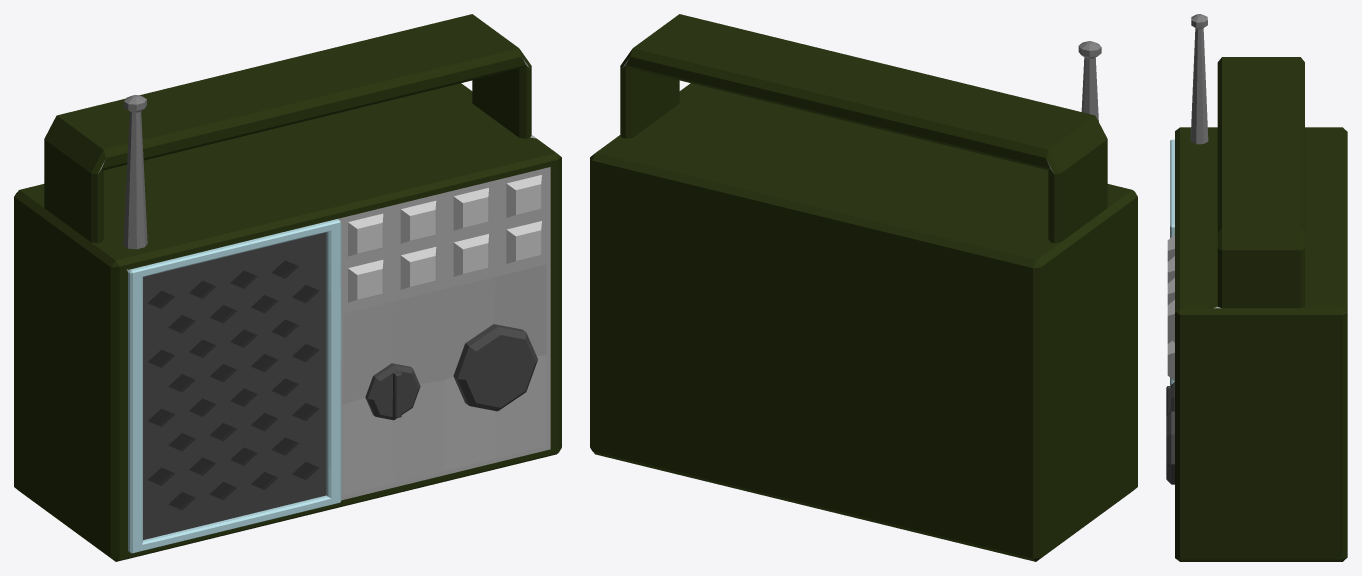
Rendered from Radio.fbx.
3 views of the same model, side by side, from view 1: azimuth 30°, elevation 25°; view 2: azimuth 150°, elevation 25°; view 3: azimuth 270°, elevation 25° (orthographic). The views are drawn at different scales.
Visible parts, largest first — view 1: Cube; view 2: Cube; view 3: Cube.
Boxes of the visible parts, x1=… form: Cube: x1=14, y1=14, x2=561, y2=561; Cube: x1=590, y1=14, x2=1137, y2=561; Cube: x1=1166, y1=14, x2=1347, y2=561.
Bounding box in the file's own units: 108 × 103 × 44.52.
